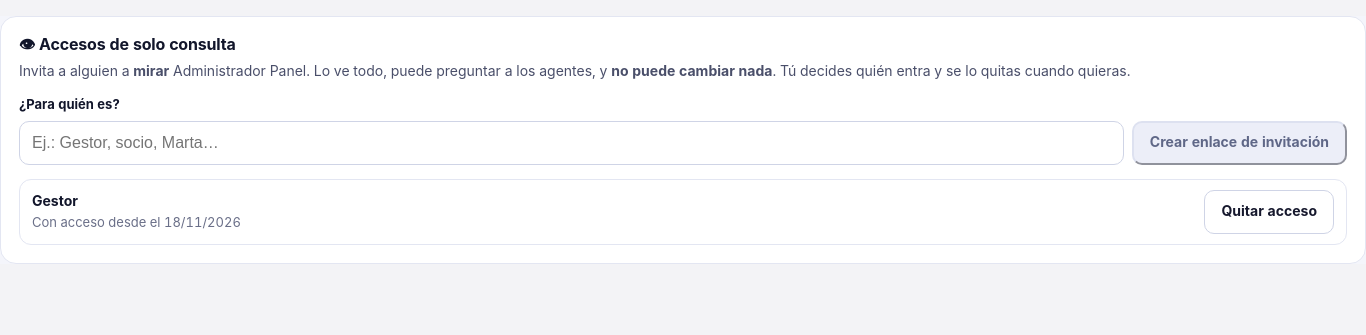
Test: panel del propietario › quitar acceso pide confirmación
The width and height of the screenshot is (1366, 335).
Click the button "Quitar acceso": (1269, 212) [1204,190,1334,234]
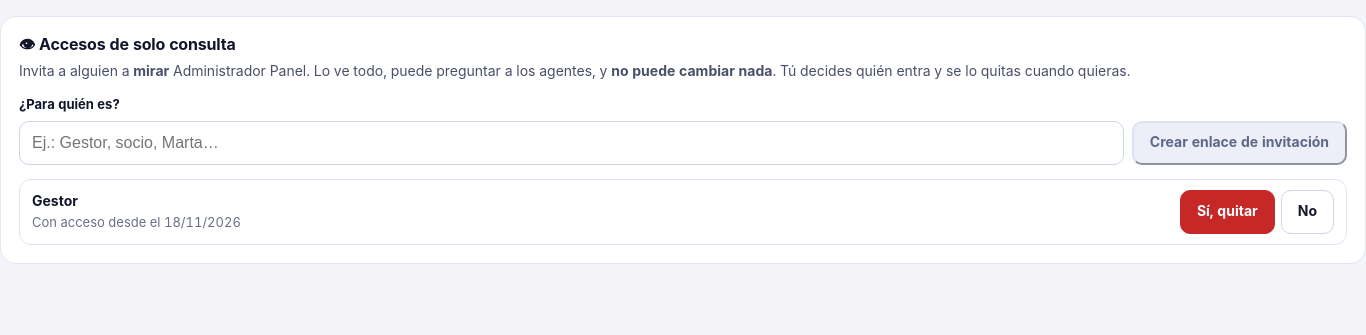
Click the button "Sí, quitar": (1227, 212) [1180,190,1275,234]
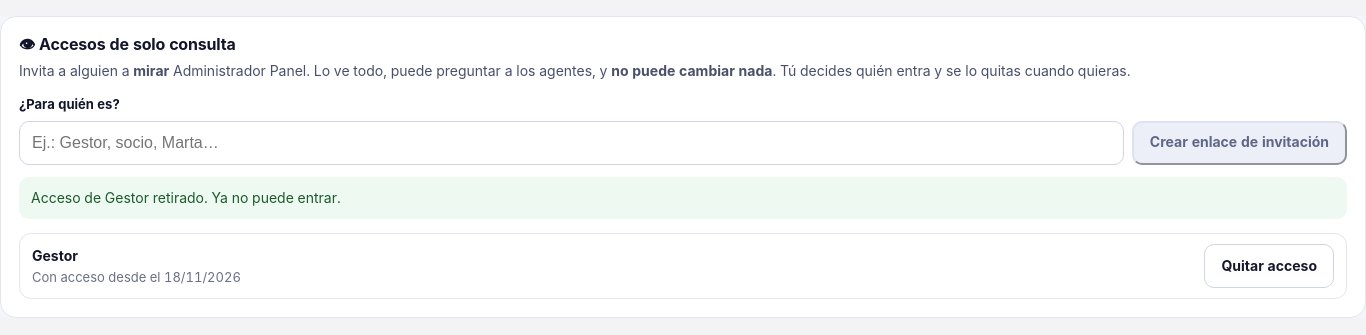
Now the text "Acceso de Gestor retirado. Ya no puede entrar." is shown, box [19,177,1347,219]
